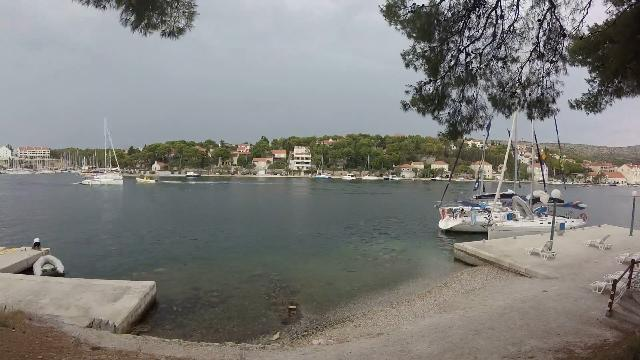Sailboat: (77, 173, 127, 187), (86, 168, 126, 182)
speedboat: (133, 172, 161, 186)
